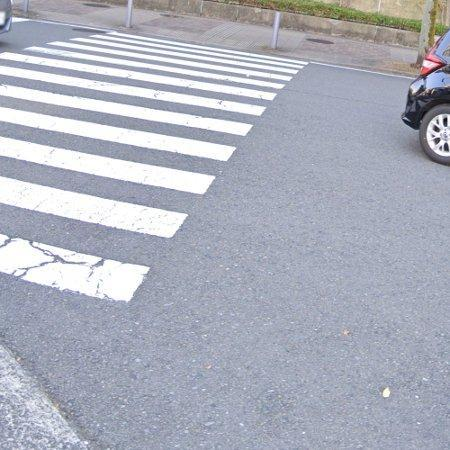crosswalks: (0, 27, 308, 306)
